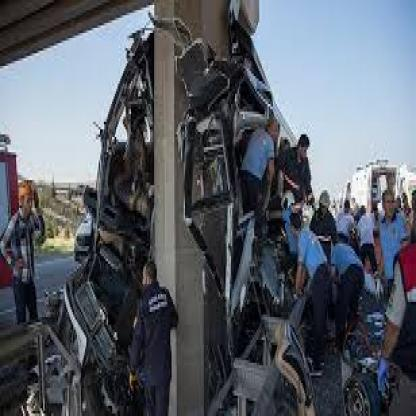accident: (70, 6, 334, 416)
